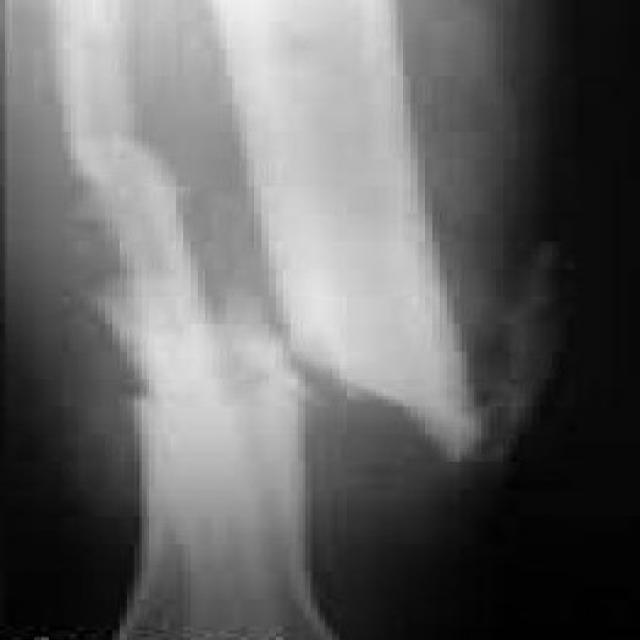comminuted: (186, 285, 514, 470)
